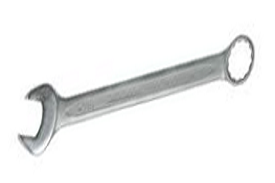Wrench: (12, 29, 269, 150)
